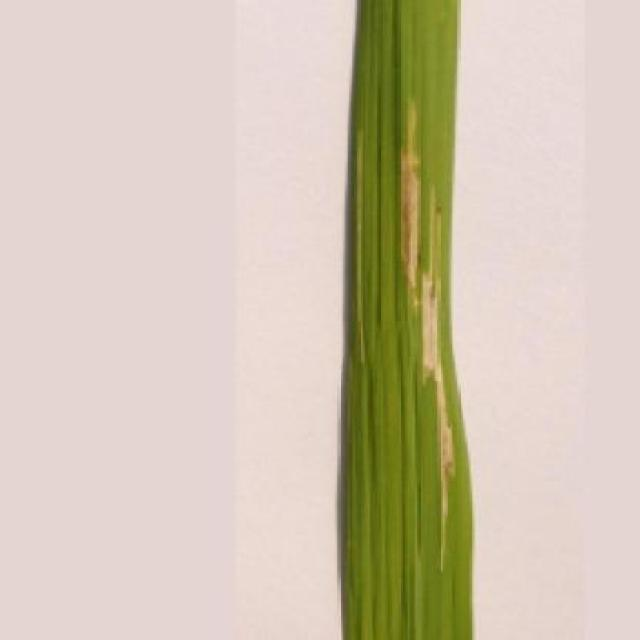Brown_Spot: (339, 0, 481, 640)
